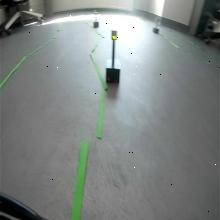green: (111, 29, 119, 41)
